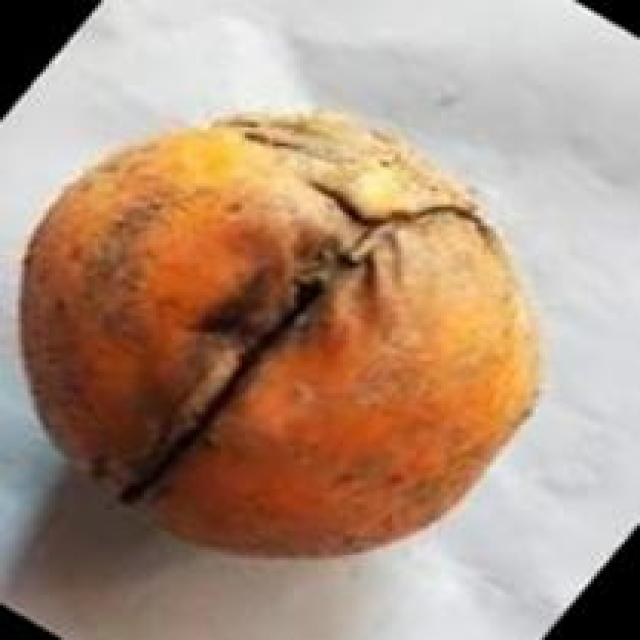damaged: (21, 114, 536, 552)
